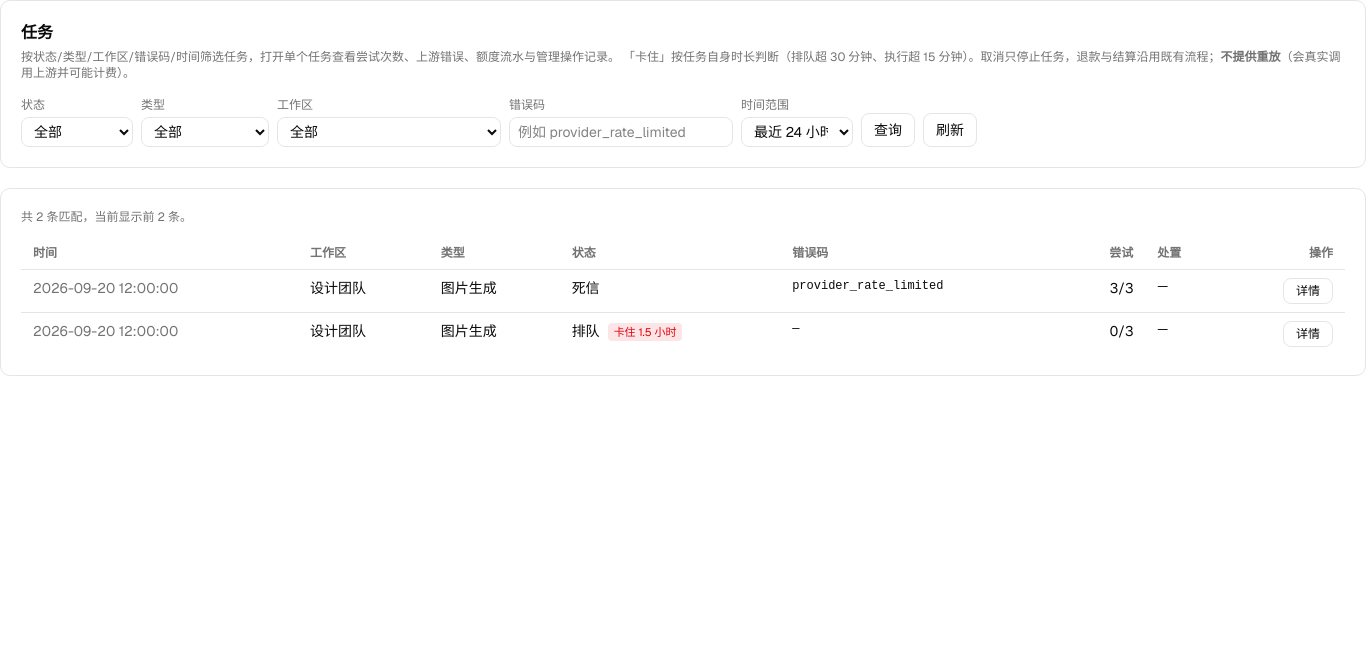
Test: admin jobs section › cancels a queued job only after an inline reason and confirmation
The width and height of the screenshot is (1366, 671).
Click the button "详情" in the row of "1.5 小时" at (1308, 334), box x1=1283 y1=321 x2=1333 y2=347
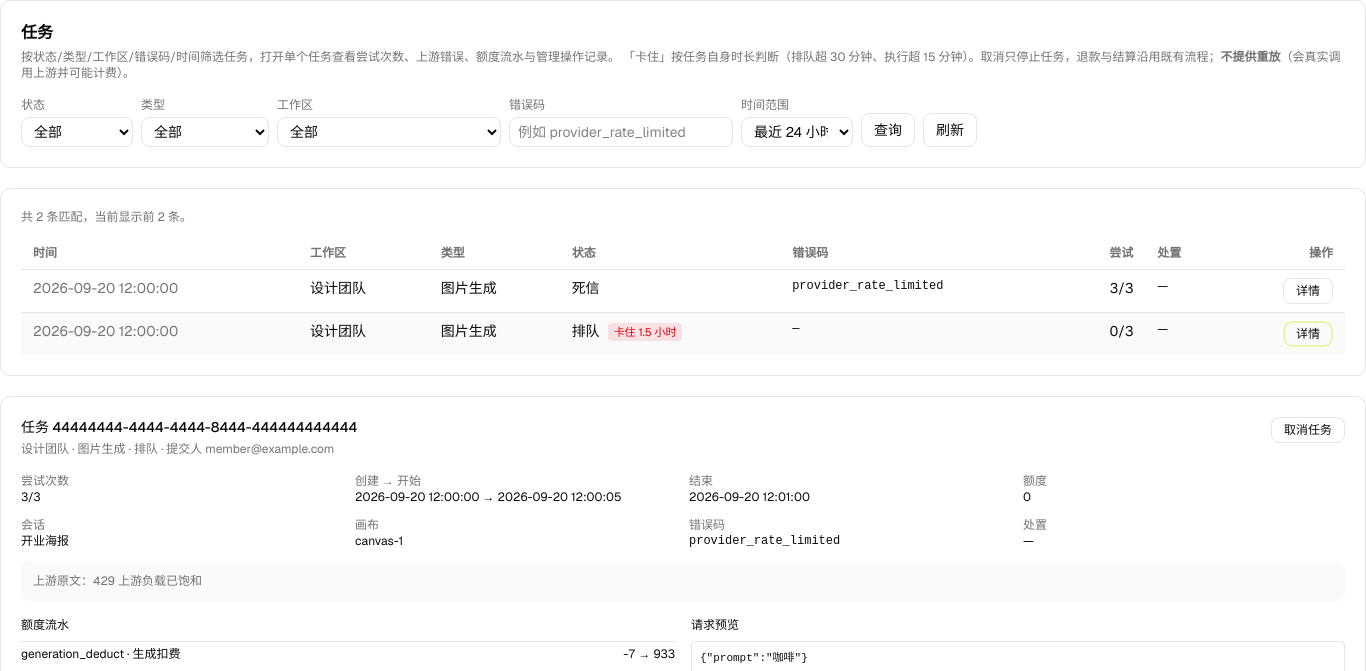
Now the button "取消任务" is shown
Click the button "取消任务" at (1308, 430), box x1=1271 y1=417 x2=1345 y2=443
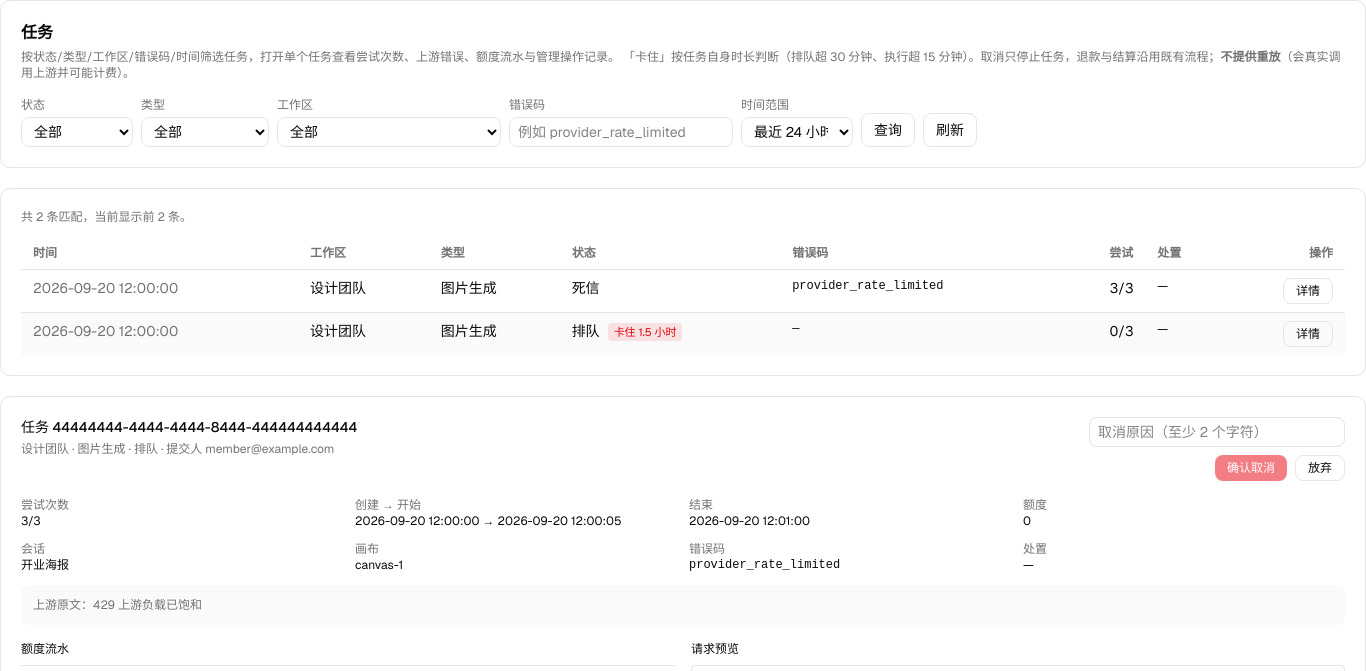
Now the button "确认取消" is disabled, box x1=1215 y1=455 x2=1287 y2=481
Type "上游长期无响应" into the field named "取消任务原因" at (1217, 432), box x1=1089 y1=417 x2=1345 y2=447
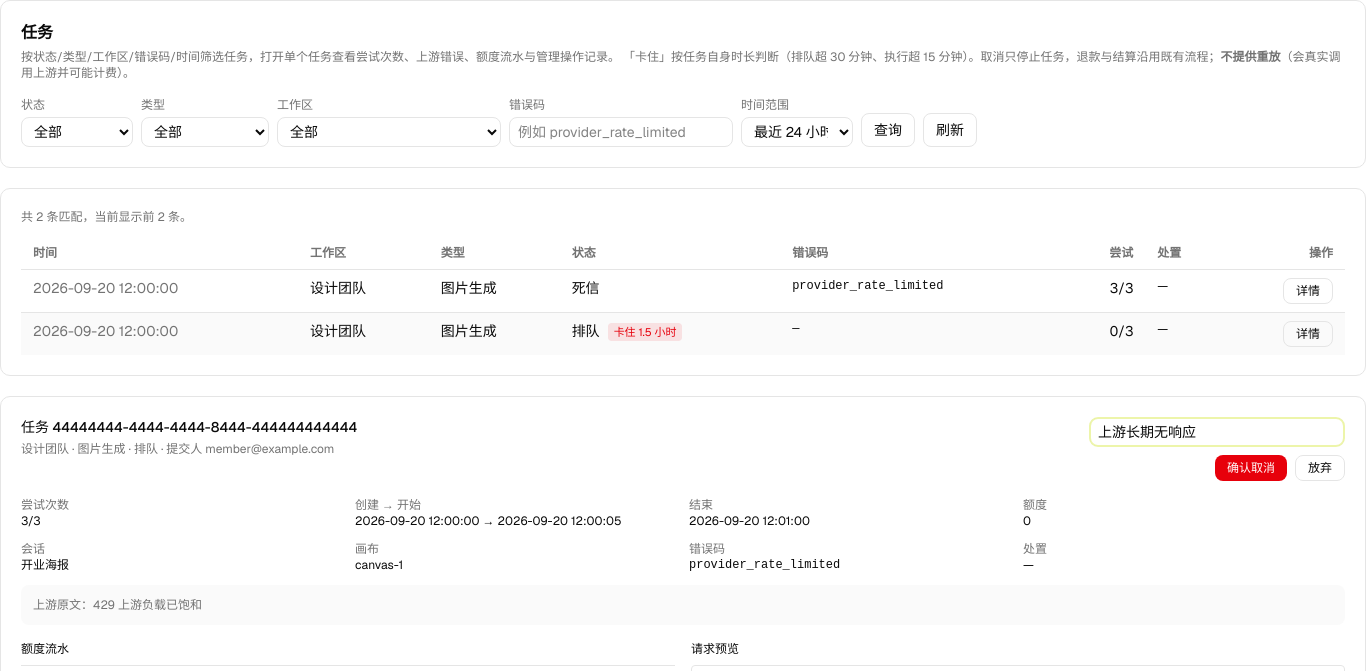
Click the button "确认取消" at (1251, 468), box x1=1215 y1=455 x2=1287 y2=481
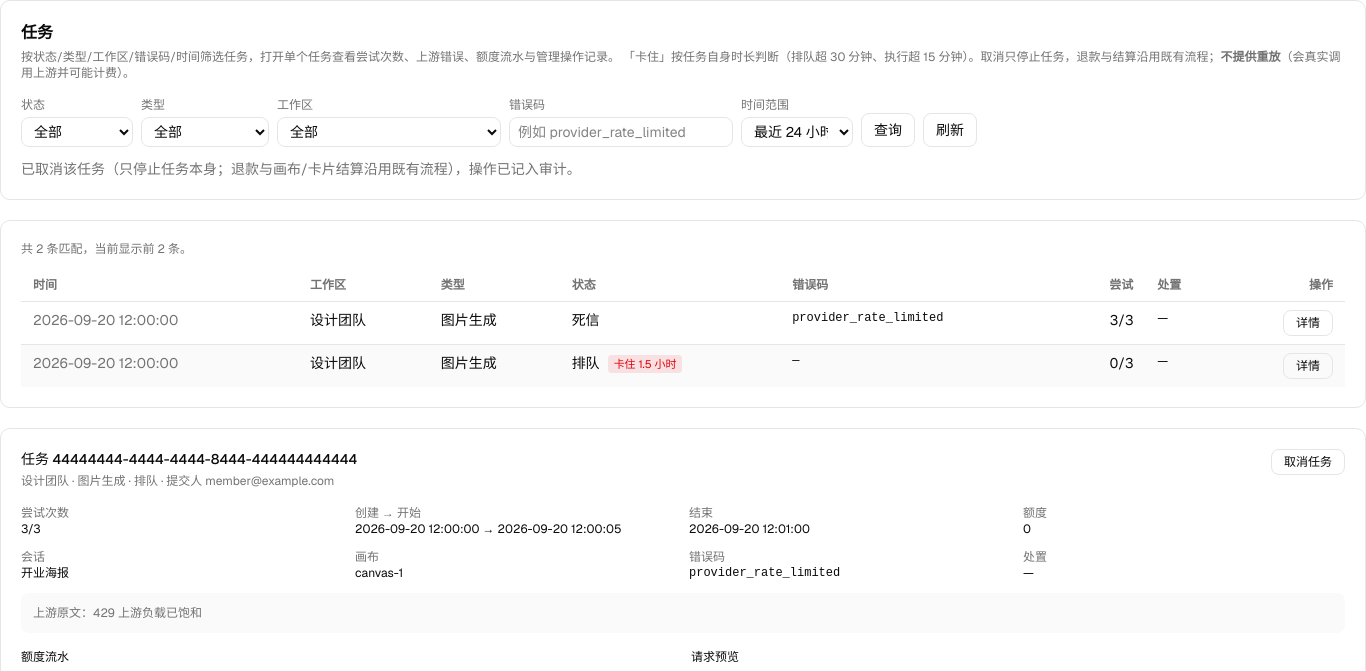
Now the text with test id "admin-jobs-feedback" shows "已取消该任务", box x1=21 y1=160 x2=581 y2=178
